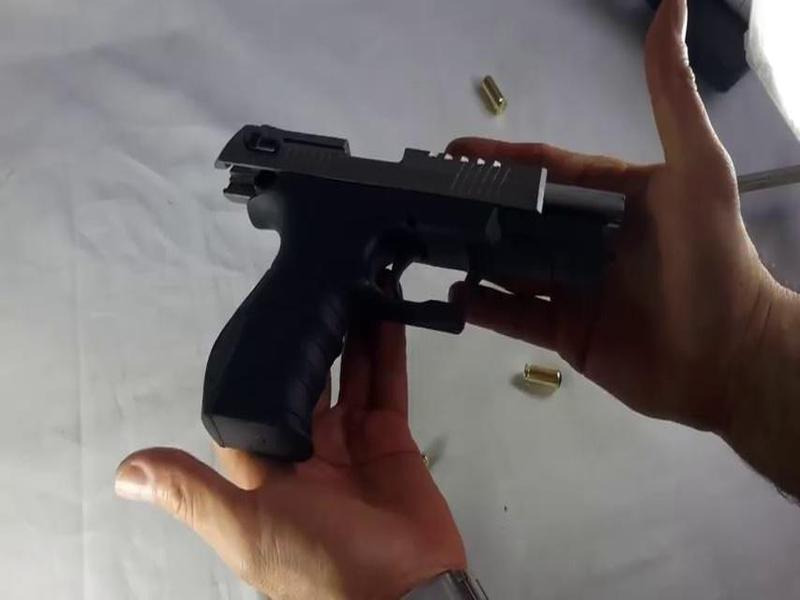Pistola: (206, 102, 636, 412)
